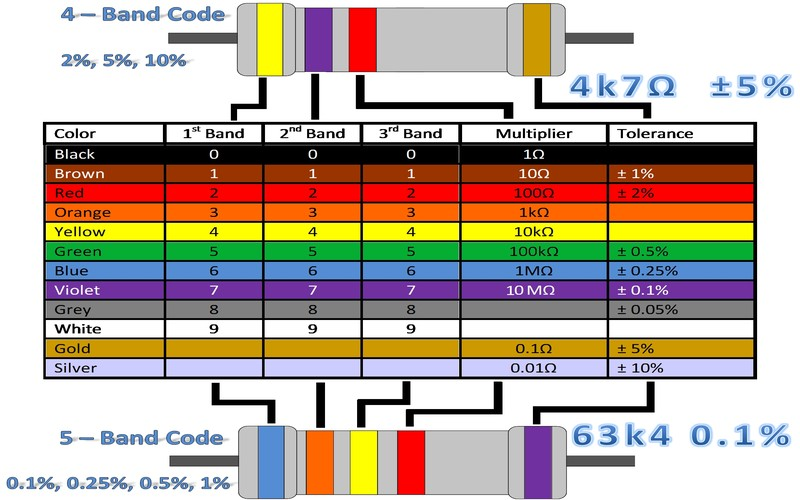Resistor: (219, 408, 577, 500), (214, 0, 593, 79)
